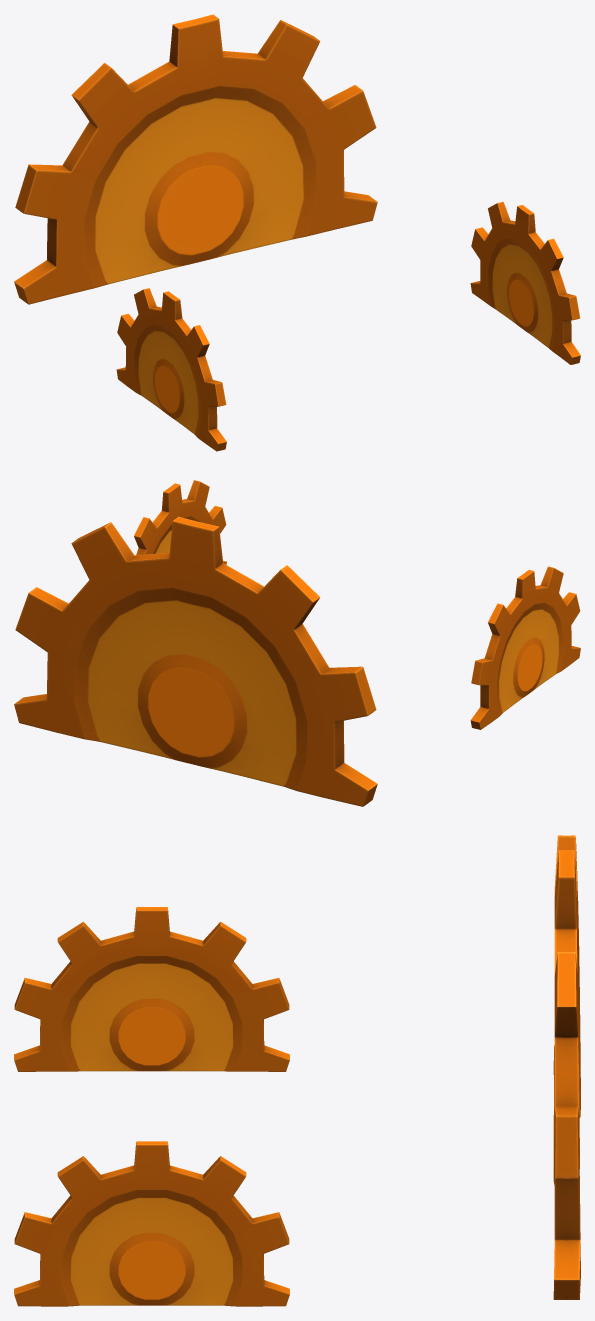
File: obj_wall_base.gltf
3 views of the same model, one above another, from view 1: azimuth 30°, elevation 25°; view 2: azimuth 150°, elevation 25°; view 3: azimuth 270°, elevation 25° (orthographic). The views are drawn at different scales.
Visible parts, largest first — view 1: obj_wall_base; view 2: obj_wall_base; view 3: obj_wall_base.
Boxes of the visible parts, left/top/right/bottom form: obj_wall_base: left=14, top=14, right=580, bottom=451; obj_wall_base: left=14, top=480, right=580, bottom=806; obj_wall_base: left=14, top=835, right=580, bottom=1306.
Size of what is drawn, in the model's own units: 15.47 by 9.66 by 15.4.
Materials: 1 (1 with a texture image).
